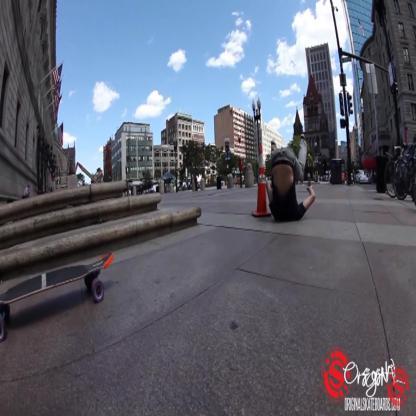Fall_Down: (265, 132, 316, 223)
